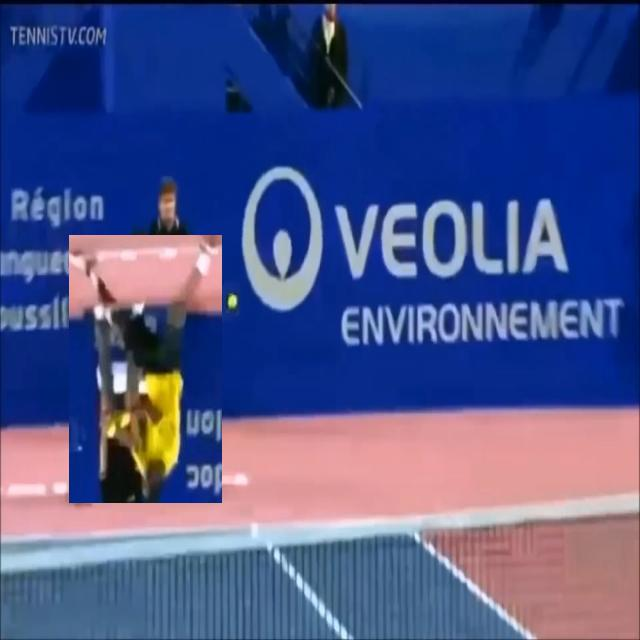person: (148, 178, 196, 433)
player: (69, 235, 222, 503)
tennis ball: (226, 295, 239, 313)
